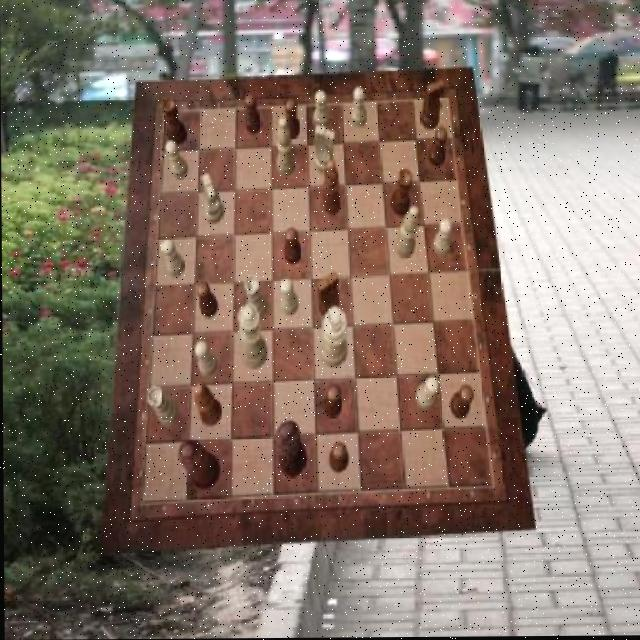bishop: (193, 383, 221, 427), (320, 160, 340, 214)
black-bishop: (273, 421, 306, 479)
black-king: (421, 79, 445, 130), (316, 272, 337, 318)
black-knight: (449, 385, 473, 420), (428, 128, 447, 169), (244, 94, 262, 135), (196, 283, 216, 319), (283, 100, 299, 142), (322, 386, 341, 420), (327, 442, 347, 474), (284, 228, 301, 265)
black-pawn: (177, 438, 220, 491)
black-queen: (161, 96, 187, 145), (389, 170, 412, 217)
black-rook: (394, 207, 419, 259), (275, 118, 293, 178)
white-bishop: (319, 307, 347, 369)
white-king: (200, 174, 223, 225), (314, 126, 335, 175)
white-knight: (161, 239, 185, 277), (164, 141, 187, 179), (194, 340, 218, 376), (415, 376, 438, 410), (433, 219, 452, 258), (279, 278, 297, 317), (351, 87, 367, 129), (313, 92, 330, 130)
white-pawn: (236, 303, 267, 369)
white-queen: (145, 387, 178, 428), (243, 275, 266, 321)
